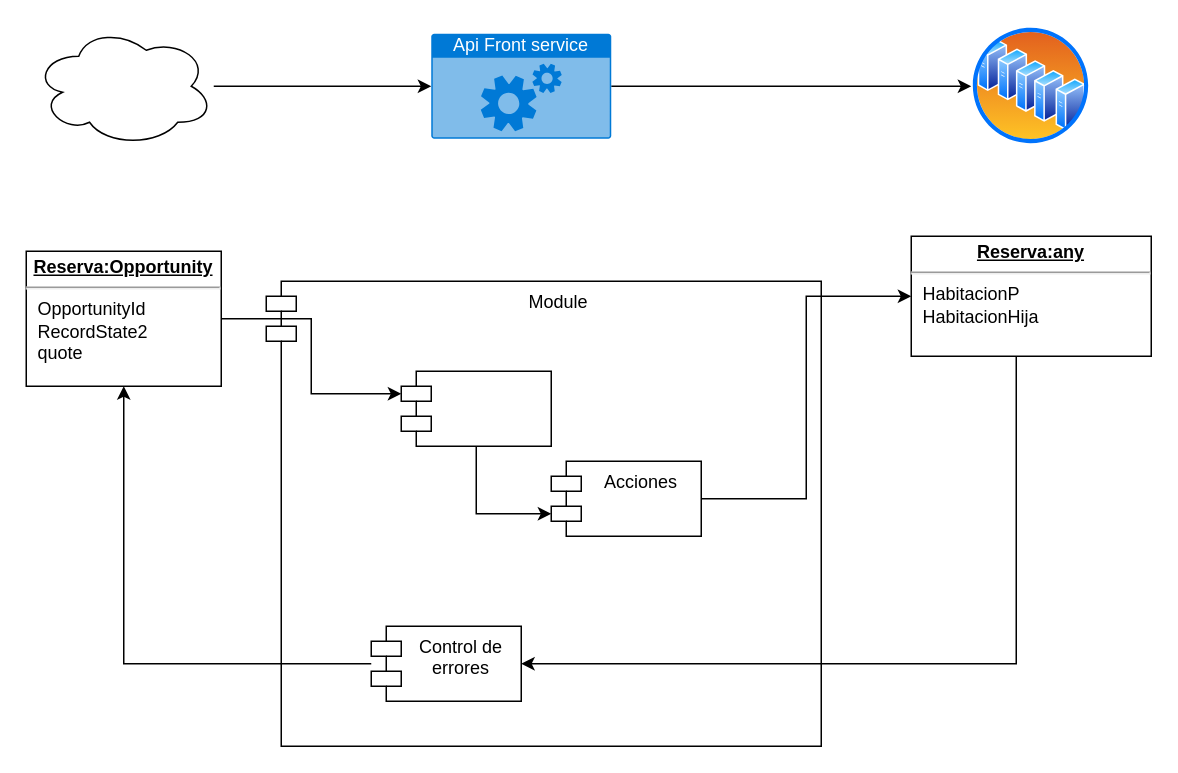
The diagram is 1178 pixels wide and 773 high, and some of its shapes have lost their labels. The centre of each missing label's shape, as x and y in pixels:
"Mapeo" belongs at point (475, 408).
"Opera" belongs at point (1030, 86).
"Saleforce" belongs at point (123, 85).
